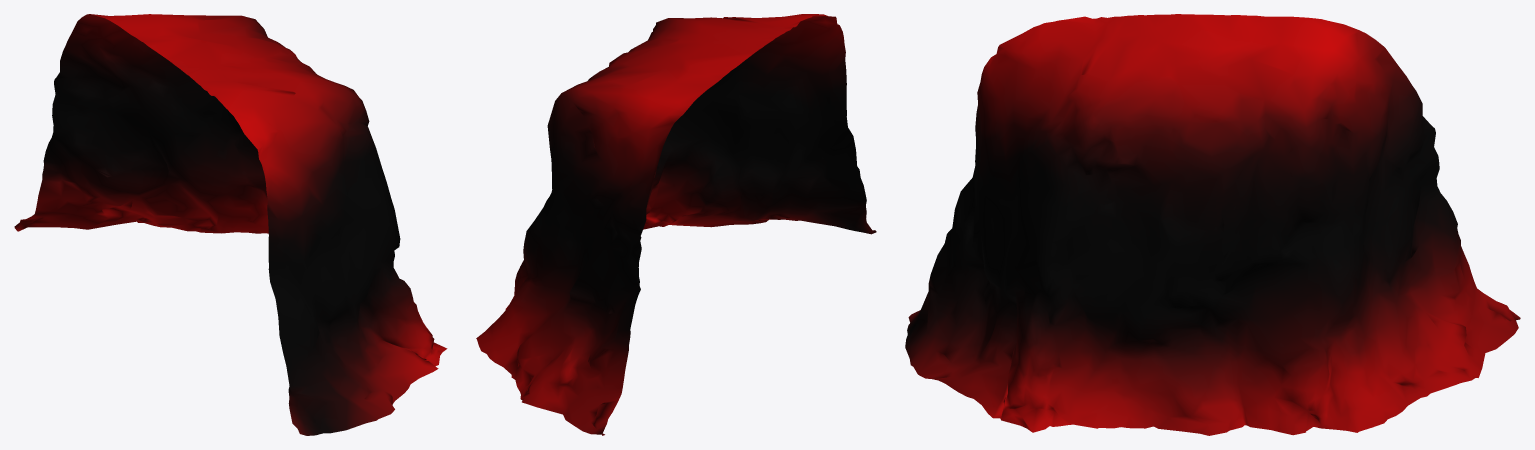
The model's file is cliff_blending.fbx.
The picture shows the model from 3 angles, left to right: view 1: azimuth 30°, elevation 25°; view 2: azimuth 150°, elevation 25°; view 3: azimuth 270°, elevation 25°; orthographic projection. The views are drawn at different scales.
Parts seen in each view (by area): view 1: cliff_lod0; view 2: cliff_lod0; view 3: cliff_lod0.
Part boxes in pixels (x1,y1,x2,y2): cliff_lod0: (14,14,447,435); cliff_lod0: (476,14,876,435); cliff_lod0: (905,14,1520,435).
Bounding box in the file's own units: 545 × 699 × 1259.
